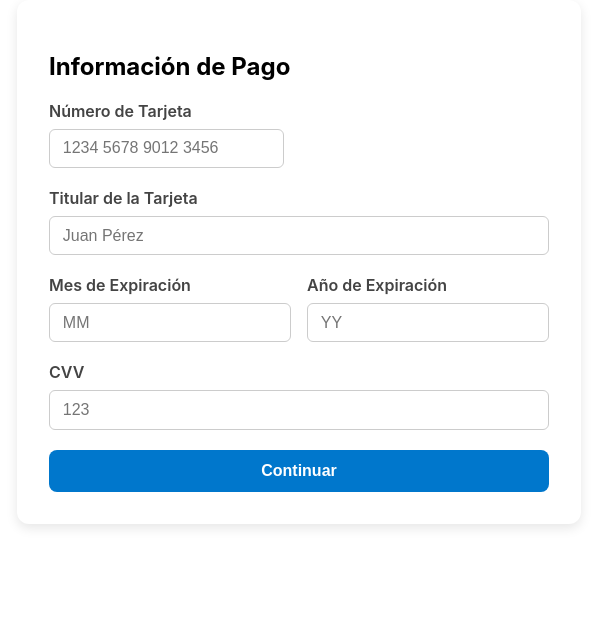
Test: PaymentForm Component › shows validation error for invalid card number
Type "12345" into the field labelled "Número de Tarjeta" at x=166, y=148, box [49,129,284,168]
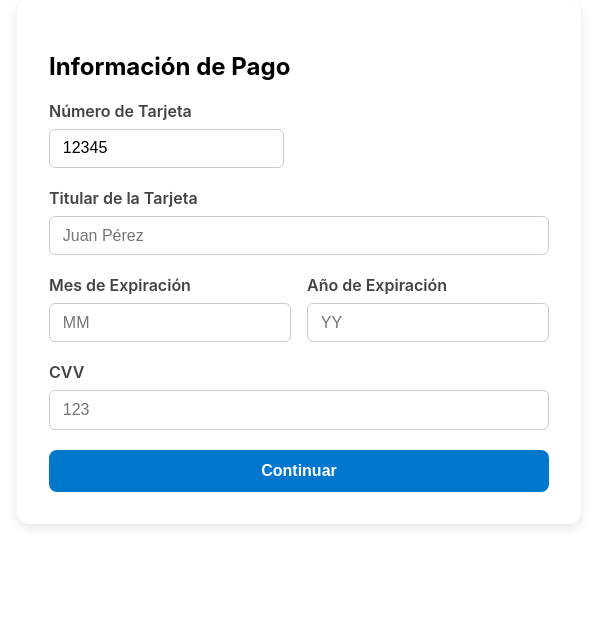
Click the button "Continuar" at x=299, y=471, box [49,450,549,492]
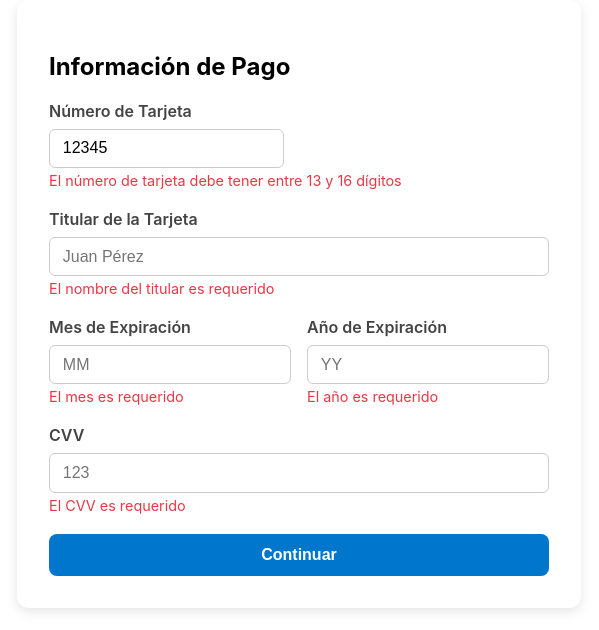
Result: the text "El número de tarjeta debe tener entre 13 y 16 dígitos" is shown at [49,172,402,189]
